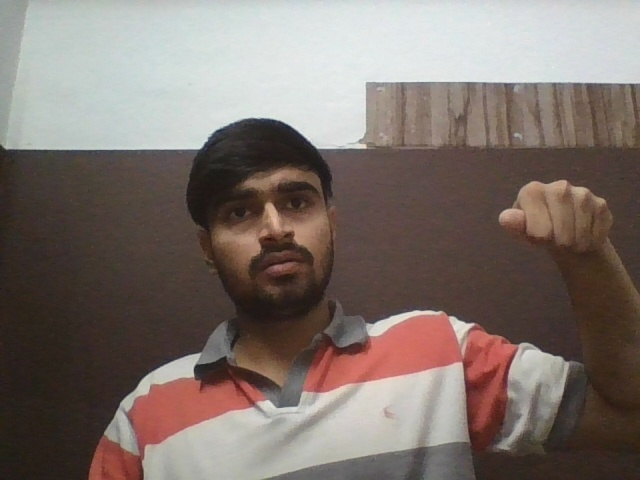Yes: (495, 179, 615, 255)
